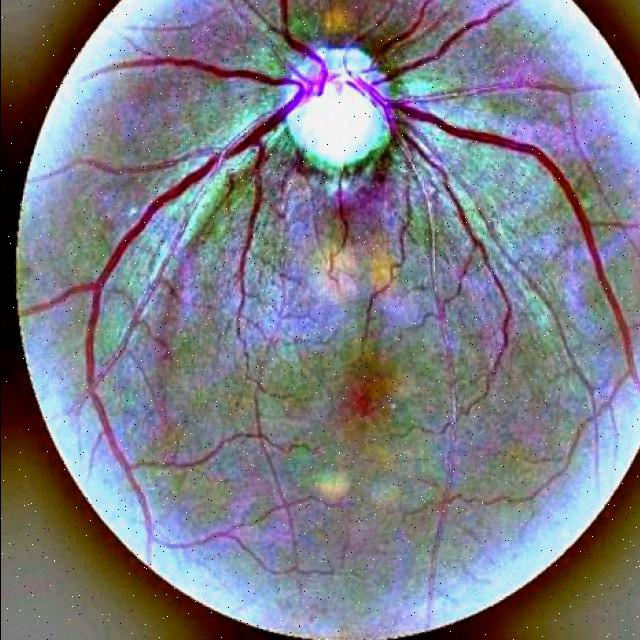Macula: (319, 335, 416, 436)
Nerves: (53, 15, 640, 541)
Optic Disk: (259, 0, 416, 210)
